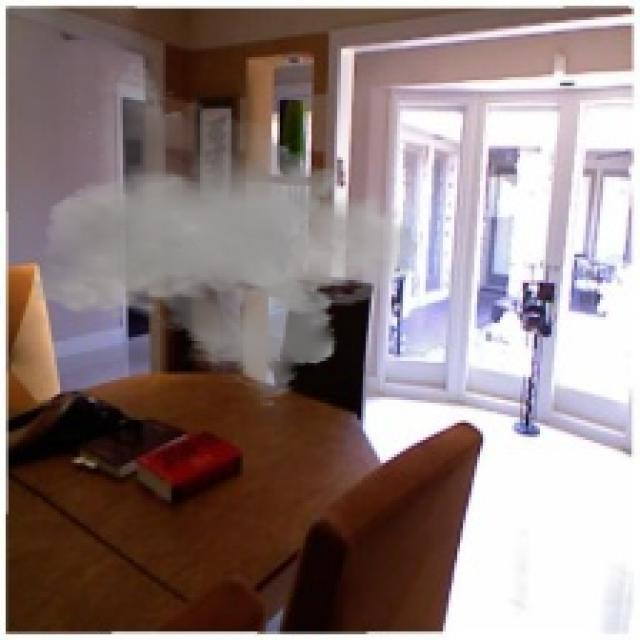Smoke: (29, 60, 418, 409)
